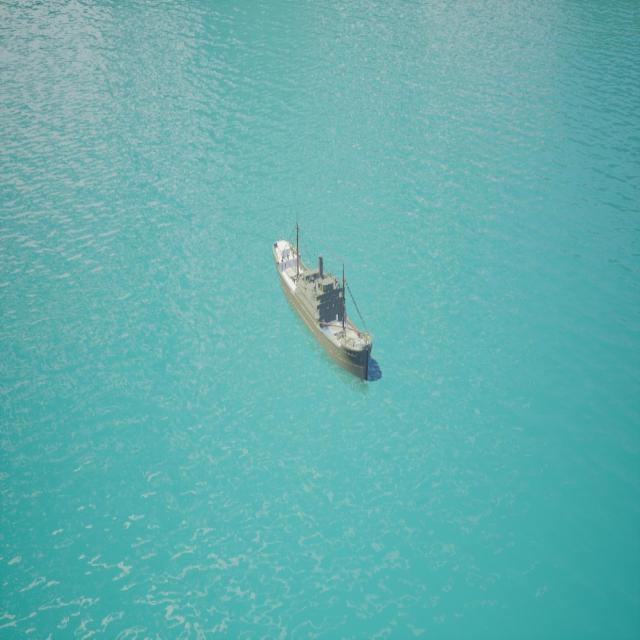fishing ship: (263, 206, 389, 392)
